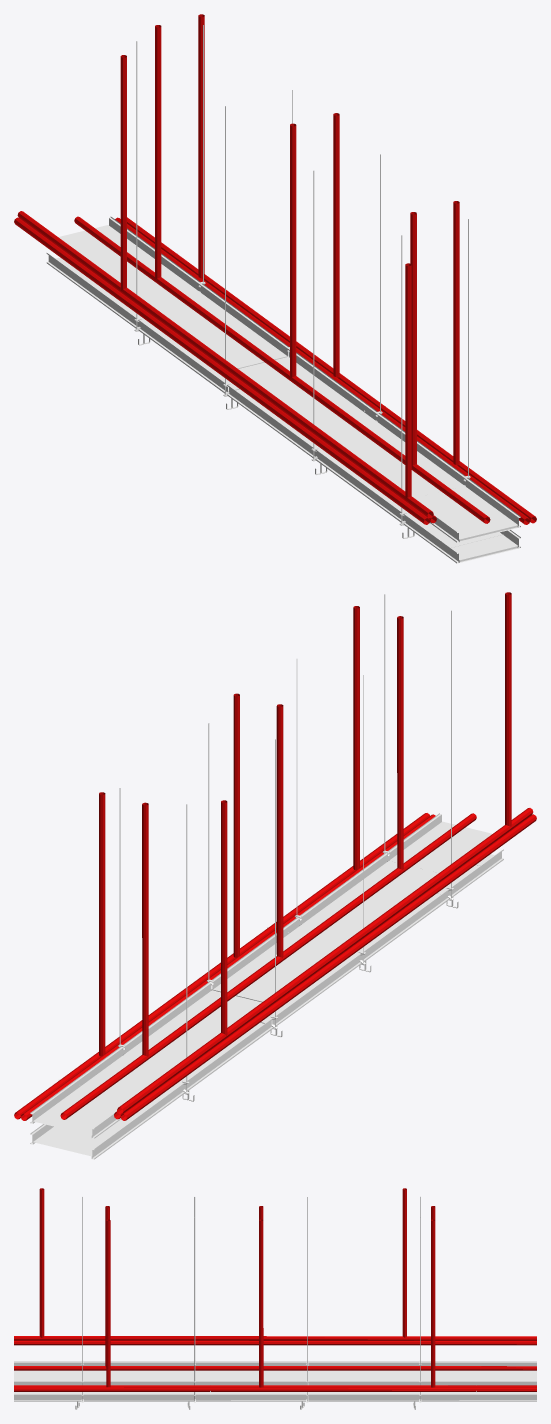
Rendered from FBX_CeilingPipe.fbx.
3 views of the same model, one above another, from view 1: azimuth 30°, elevation 25°; view 2: azimuth 150°, elevation 25°; view 3: azimuth 270°, elevation 25° (orthographic). The views are drawn at different scales.
Parts seen in each view (by area): view 1: SM_CeilingPipe; view 2: SM_CeilingPipe; view 3: SM_CeilingPipe.
Boxes of the visible parts, <box> form: SM_CeilingPipe: <box>14,14,536,563</box>; SM_CeilingPipe: <box>14,592,536,1159</box>; SM_CeilingPipe: <box>14,1188,536,1409</box>.
Size of the model in its own units: 1.37 by 3.38 by 8.38.
